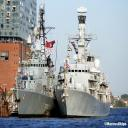Fragata: (56, 1, 113, 118), (13, 1, 58, 120)
